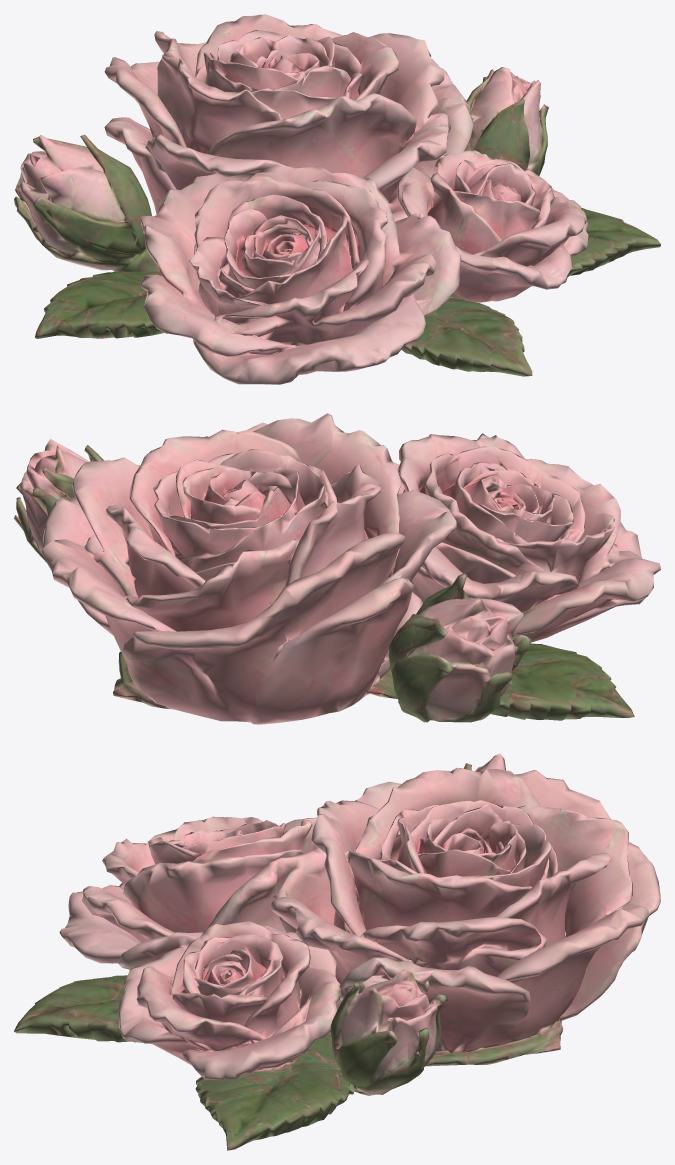
3 renders of one model, top to bottom at view 1: azimuth 30°, elevation 25°; view 2: azimuth 150°, elevation 25°; view 3: azimuth 270°, elevation 25°, orthographic. The views are drawn at different scales.
Bounding box in the file's own units: 1.9 × 0.6029 × 1.79.
1 material, 1 textured.
